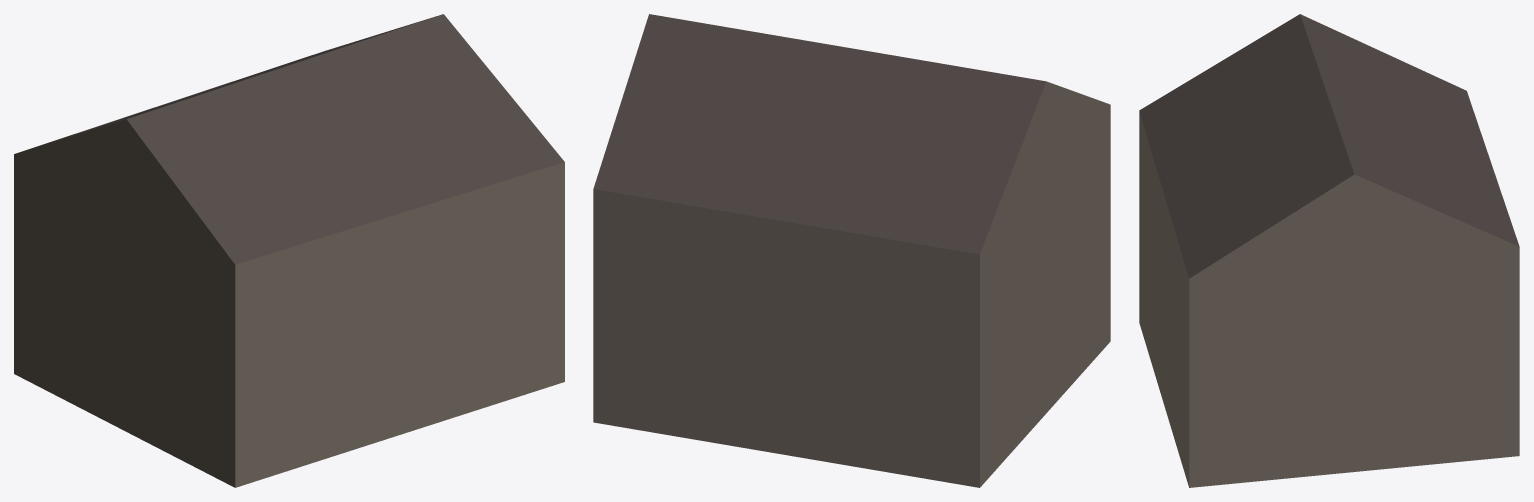
3 views of the same model, side by side, from view 1: azimuth 30°, elevation 25°; view 2: azimuth 150°, elevation 25°; view 3: azimuth 270°, elevation 25° (orthographic). The views are drawn at different scales.
Visible parts, largest first — view 1: HP-w1196661455; view 2: HP-w1196661455; view 3: HP-w1196661455.
Boxes of the visible parts, x1,y1,x2,y2 form: HP-w1196661455: (14, 14, 564, 487); HP-w1196661455: (593, 14, 1110, 487); HP-w1196661455: (1139, 14, 1519, 487).
Size of the model in its own units: 11.57 by 8.54 by 9.89.
